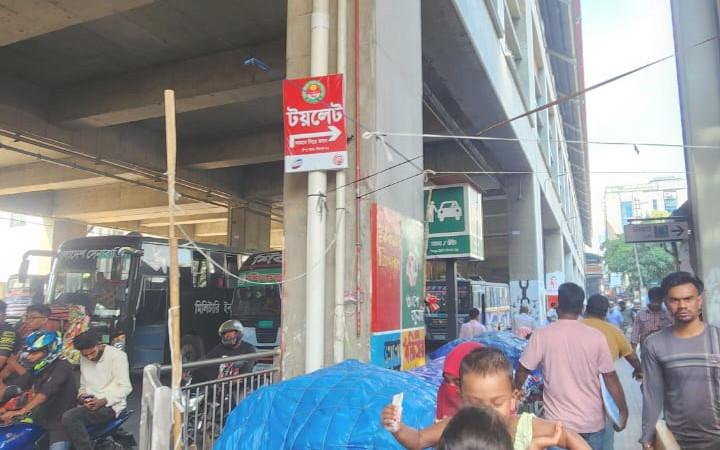Metro Dorp Up Pick up: (424, 181, 486, 267)
